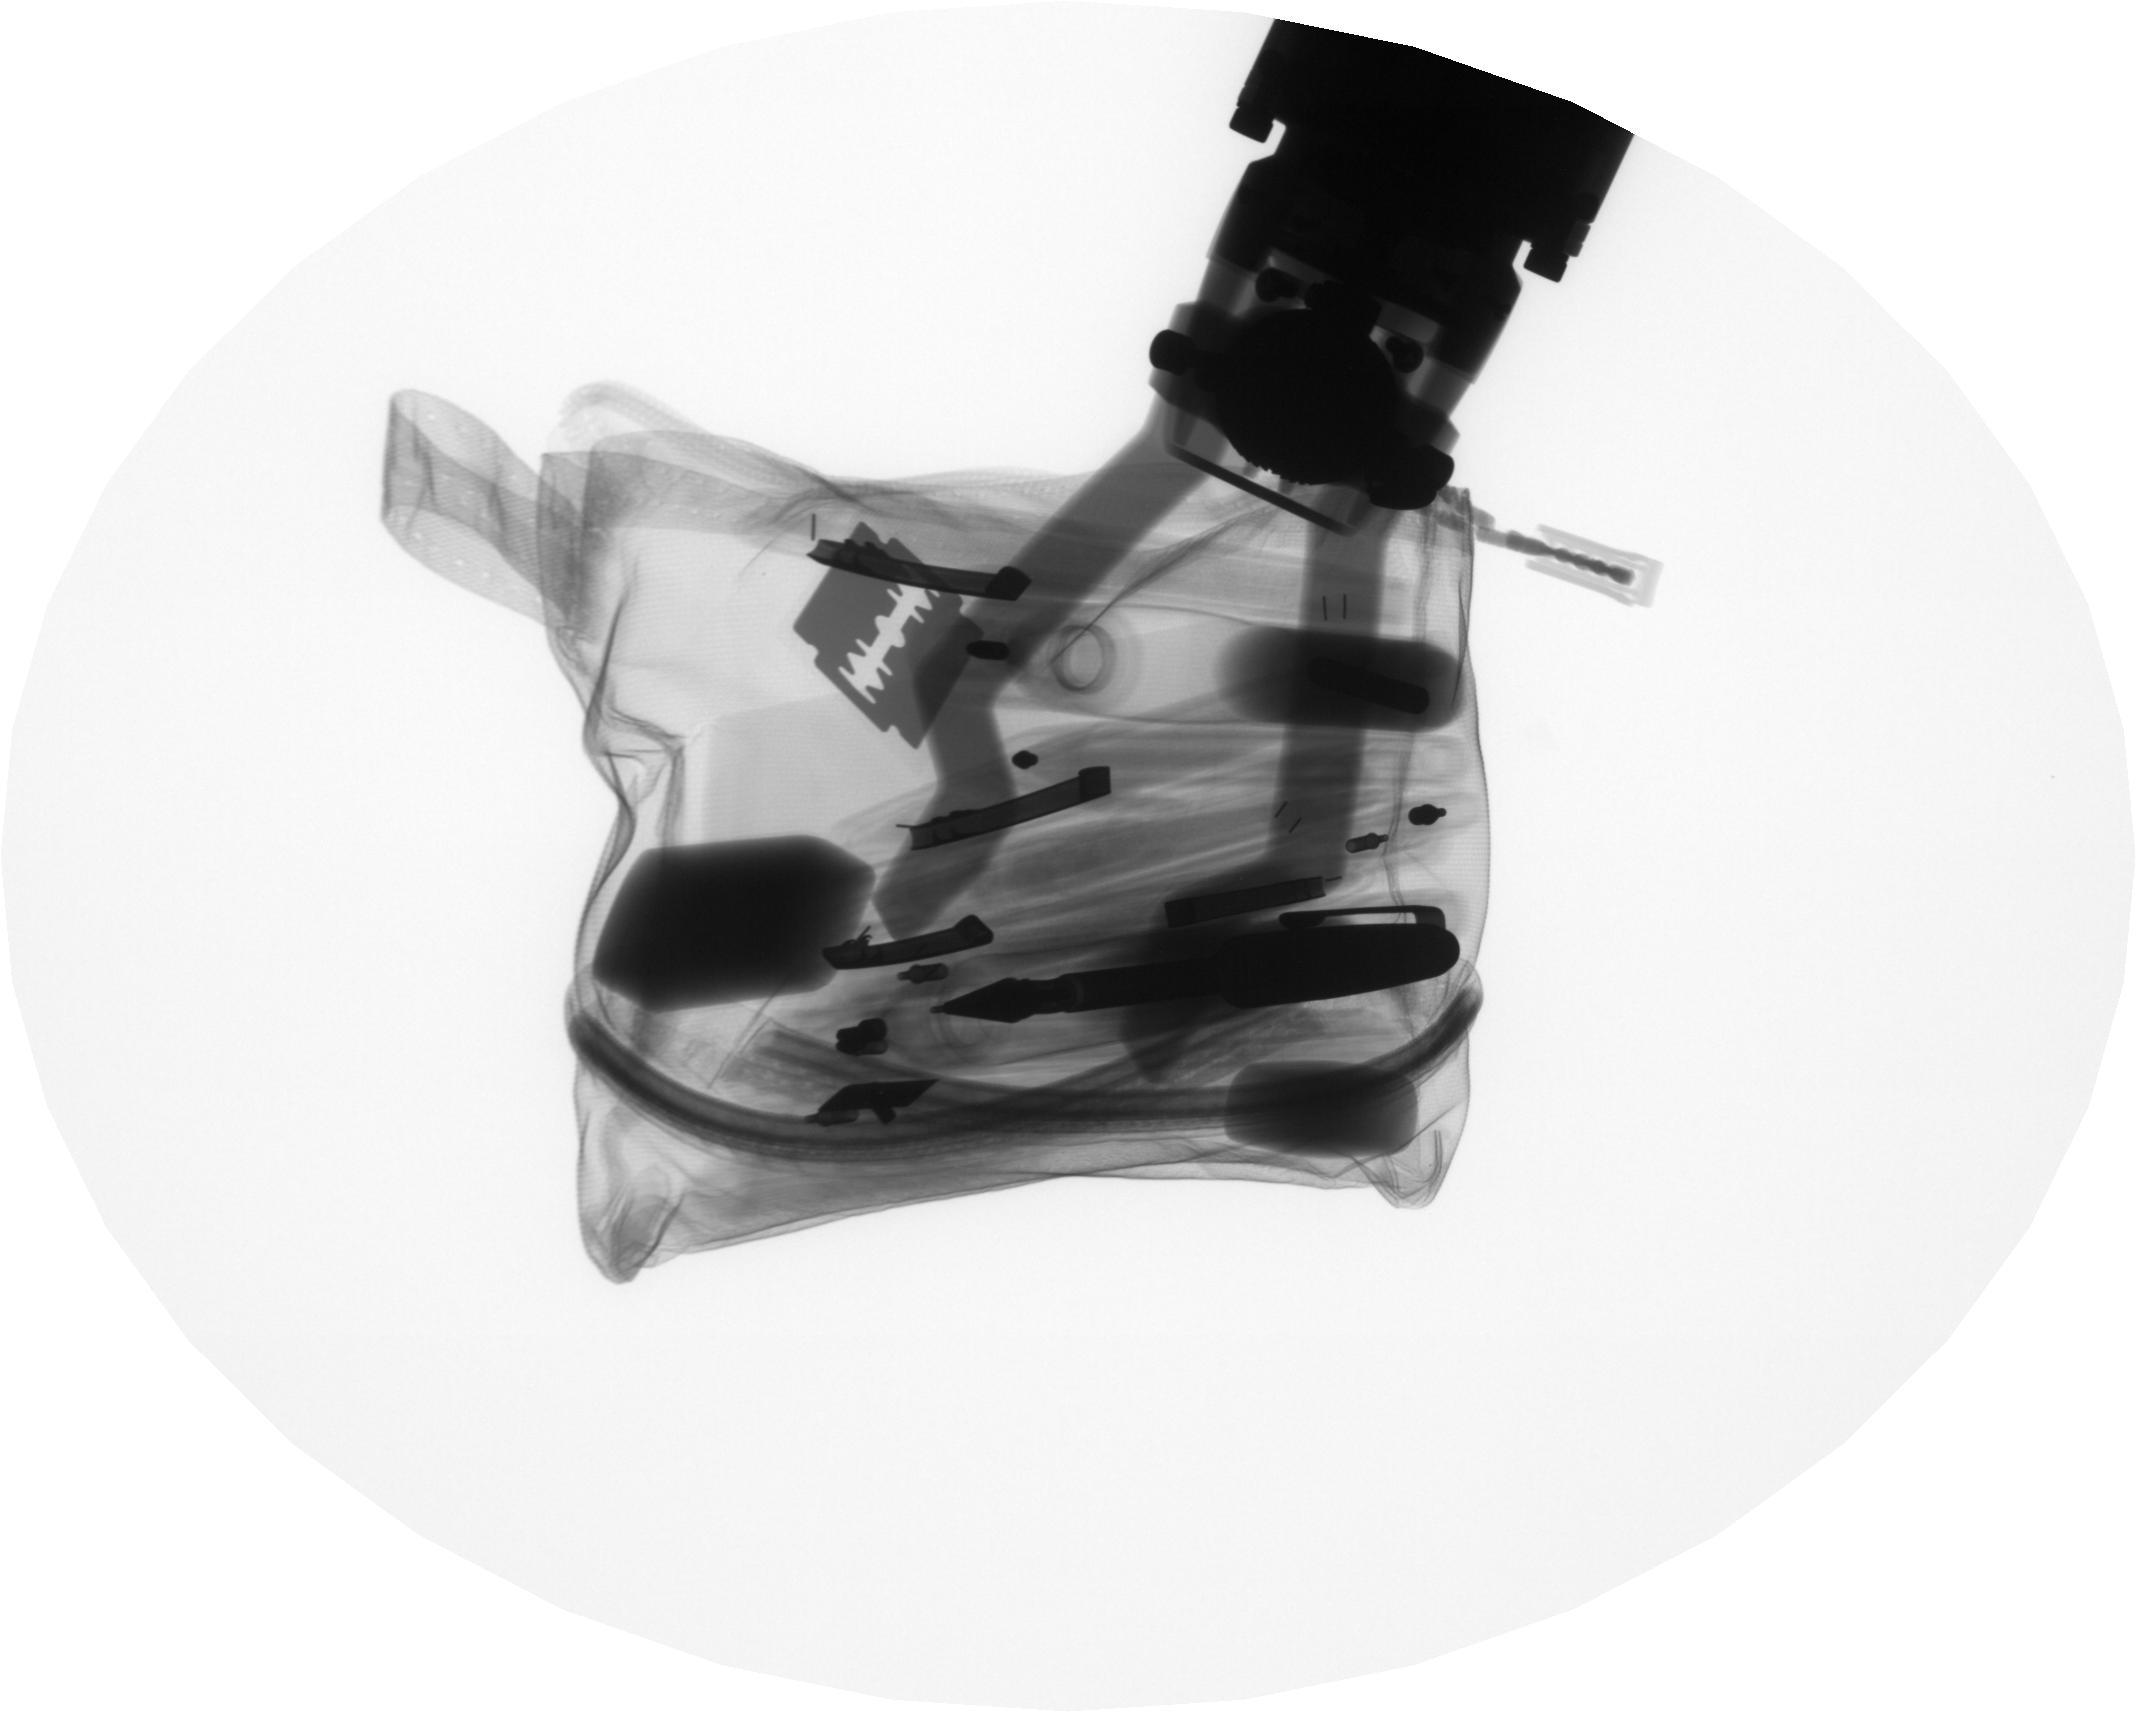RazorBlade: (784, 515, 990, 760)
